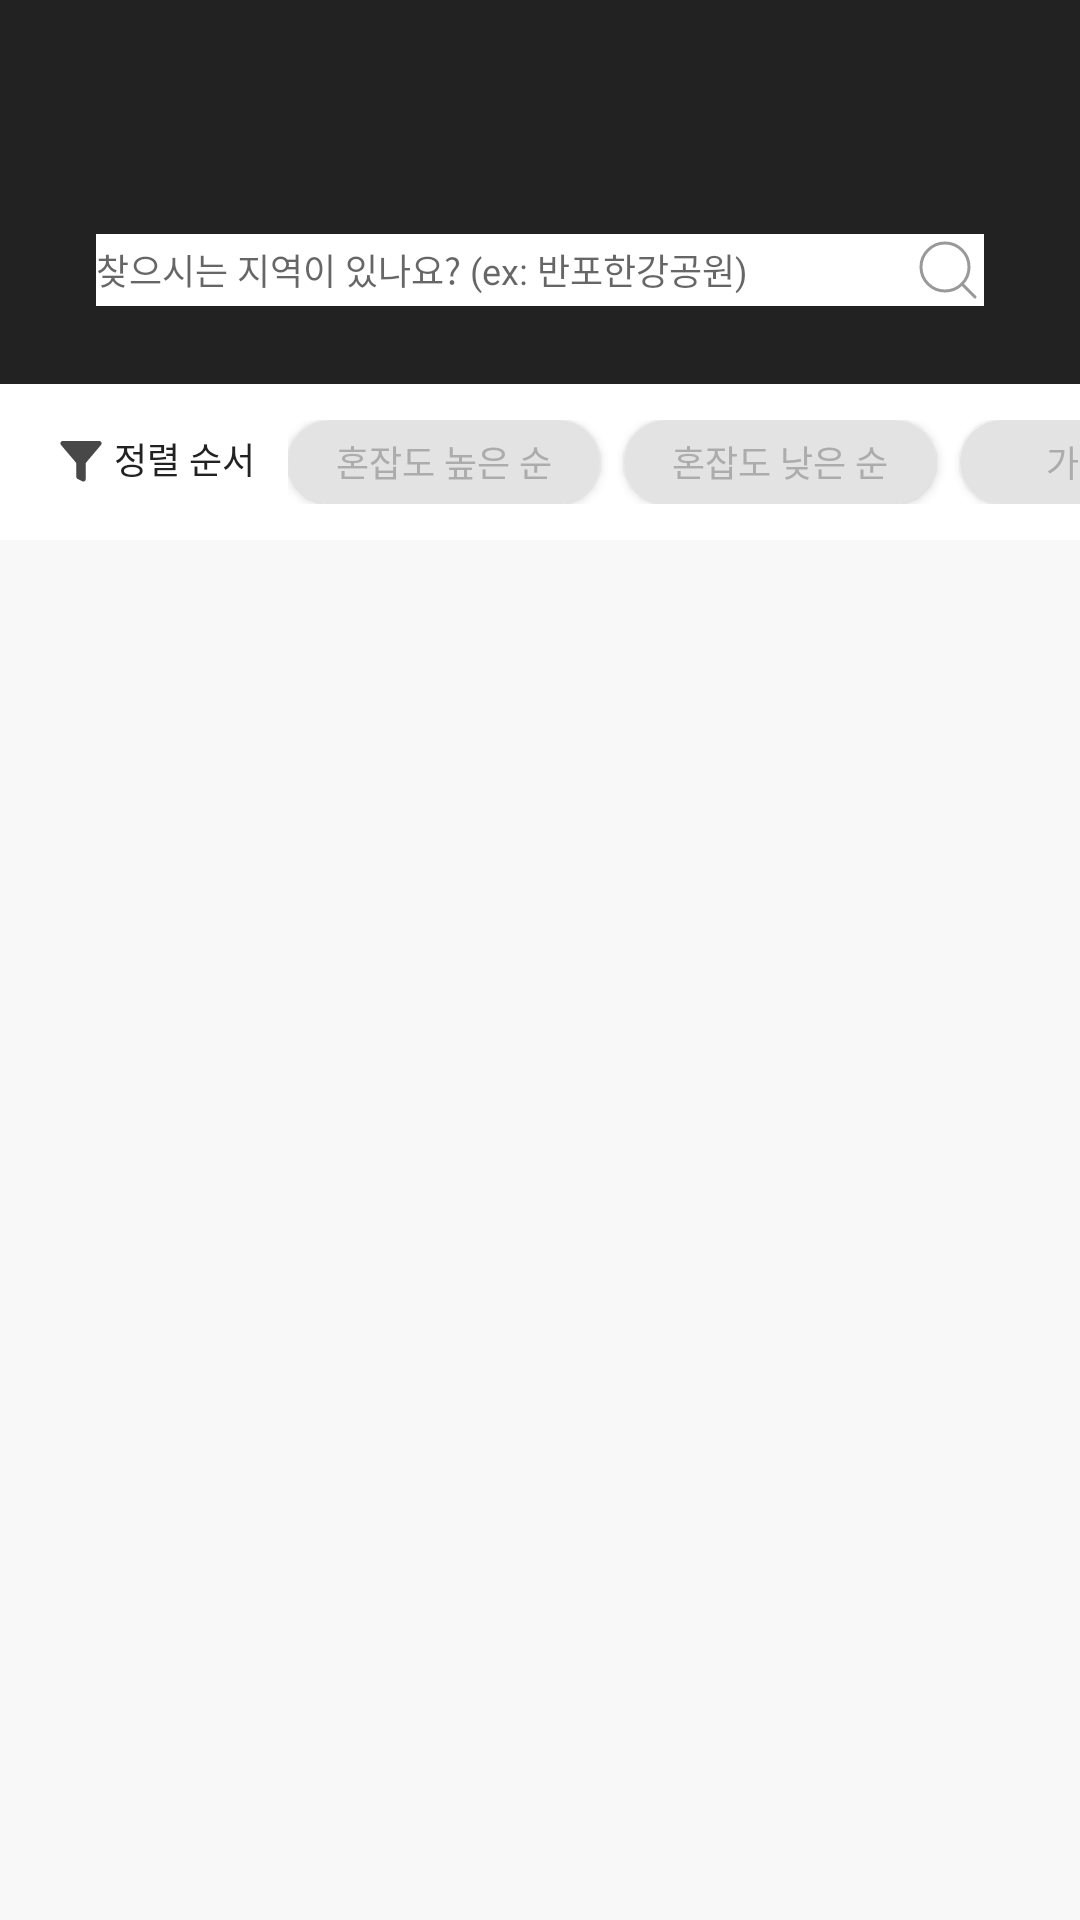

Screen size 1080x1920. Icon name, then its box in pixels as detection(x1, y1, x2, y2):
place filter: detection(60, 441, 102, 482)
place search: detection(912, 234, 984, 306)
